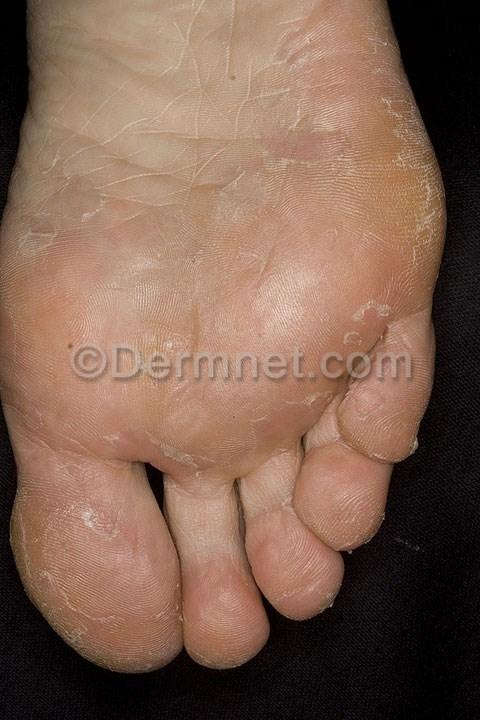Eczema: (230, 263, 342, 362), (264, 109, 361, 178), (103, 245, 183, 321), (47, 167, 127, 238), (266, 514, 328, 605), (202, 160, 278, 233), (55, 493, 139, 554), (120, 313, 199, 375), (13, 405, 86, 472), (294, 54, 370, 115), (156, 339, 215, 416), (297, 326, 372, 384), (86, 417, 141, 496), (353, 379, 416, 445), (130, 415, 198, 474), (167, 212, 229, 276), (25, 545, 86, 610), (302, 466, 367, 525), (379, 237, 439, 299), (7, 214, 82, 263), (121, 586, 181, 647), (12, 485, 62, 556), (313, 219, 372, 278), (333, 281, 390, 341), (200, 417, 250, 481), (384, 118, 429, 188), (401, 175, 445, 246), (198, 584, 251, 642), (247, 412, 300, 470), (3, 267, 65, 316), (364, 66, 414, 126), (61, 601, 121, 651), (320, 6, 372, 60), (294, 378, 338, 435), (0, 314, 31, 387), (357, 0, 392, 56)
